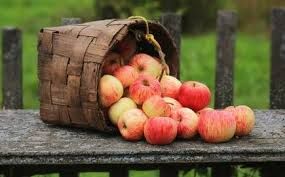apple: (200, 110, 236, 144), (170, 108, 200, 141), (178, 80, 210, 109), (144, 118, 178, 144), (119, 110, 148, 140), (129, 78, 162, 104), (130, 53, 162, 78), (142, 96, 173, 120), (230, 104, 254, 135), (96, 76, 122, 103), (110, 94, 137, 120), (157, 75, 182, 99)
